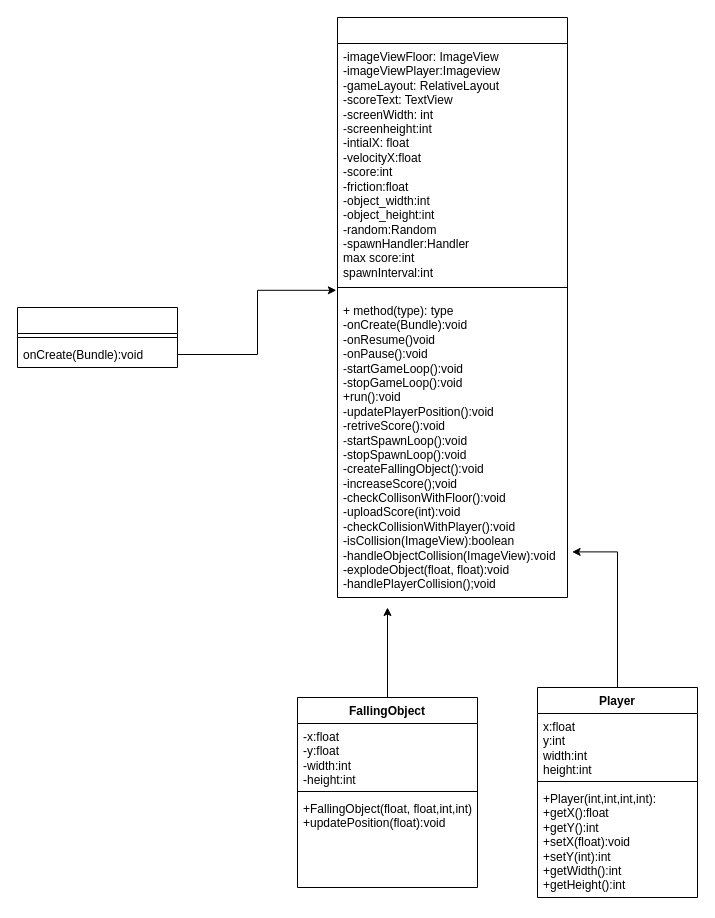
This 715x918 diagram has some shape labels left out. The box of each missing label's shape, as (x1, y1, x2, y2) in pixels:
MainActivity: (336, 16, 568, 598)
MeniuPrincipalActivity: (16, 306, 178, 368)
